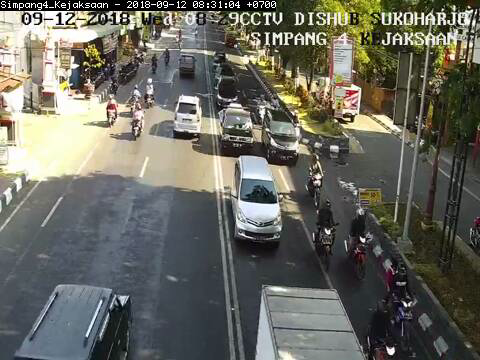motor: (385, 263, 418, 352), (313, 200, 339, 272), (346, 207, 369, 279), (367, 299, 394, 360), (304, 155, 323, 209)
